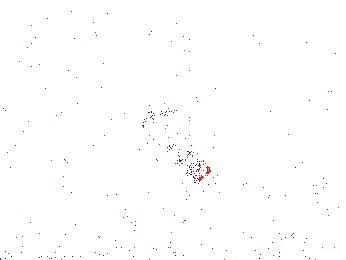flame jellyfish: (132, 104, 211, 184), (89, 171, 155, 227), (146, 170, 206, 226)
